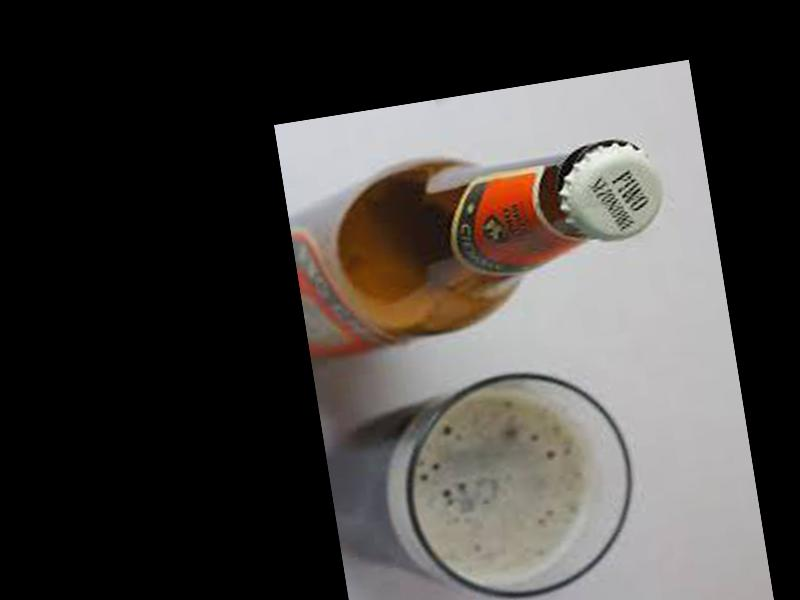Beer: (282, 123, 680, 364)
